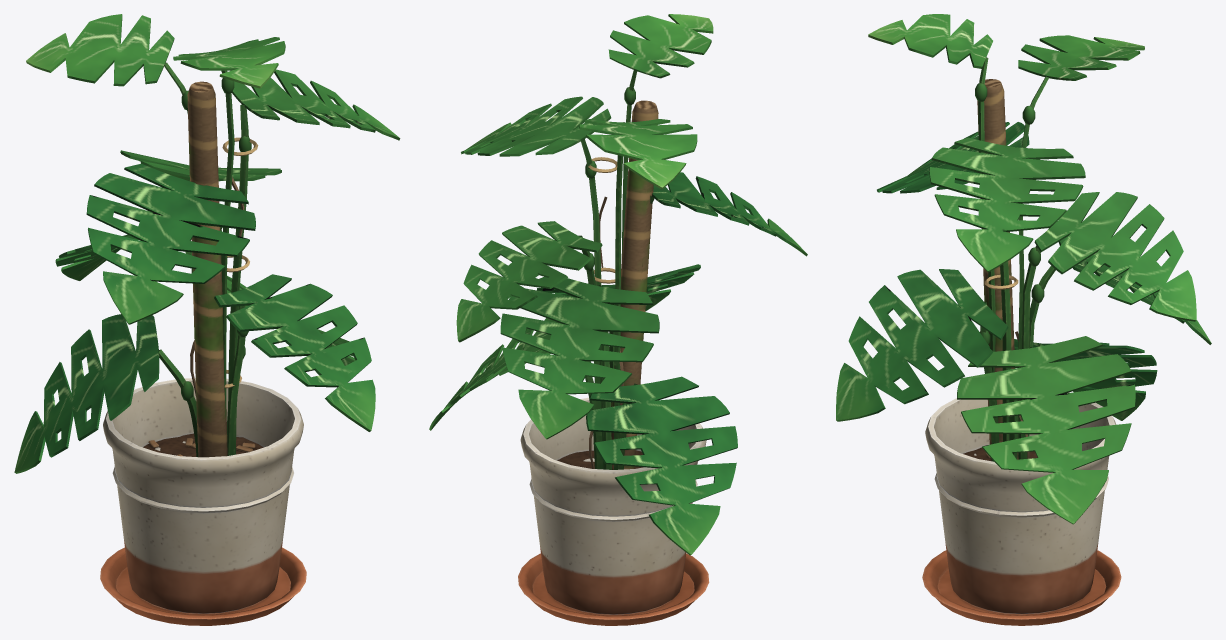
File: monstera.fbx
3 renders of one model, left to right at view 1: azimuth 30°, elevation 25°; view 2: azimuth 150°, elevation 25°; view 3: azimuth 270°, elevation 25°, orthographic. The views are drawn at different scales.
Parts seen in each view (by area): view 1: Anim Sway, Body; view 2: Anim Sway, Body; view 3: Anim Sway, Body.
Part boxes in pixels (box(x1,y1,x2,y2)): Anim Sway: box(14, 14, 400, 473); Body: box(100, 81, 306, 625); Anim Sway: box(429, 14, 807, 555); Body: box(518, 100, 709, 625); Anim Sway: box(836, 14, 1211, 524); Body: box(922, 79, 1121, 625).
Size of the model in its own units: 0.8784 by 1.48 by 0.913.
